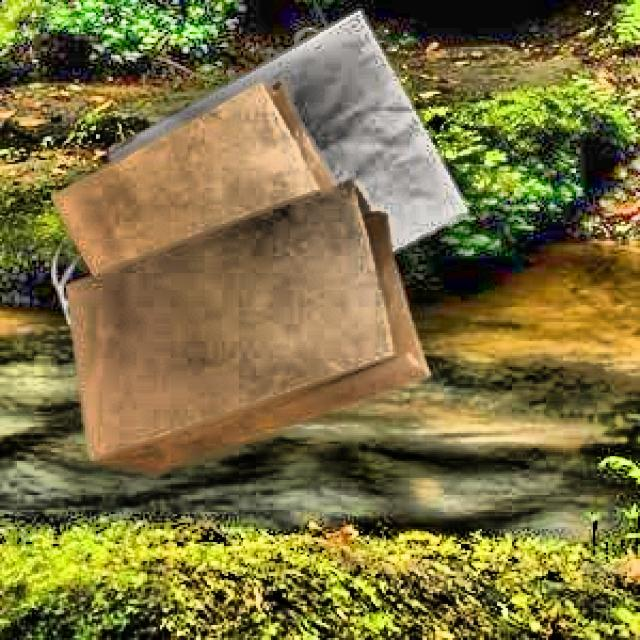Paper-bag: (47, 178, 449, 502), (37, 75, 387, 349)
